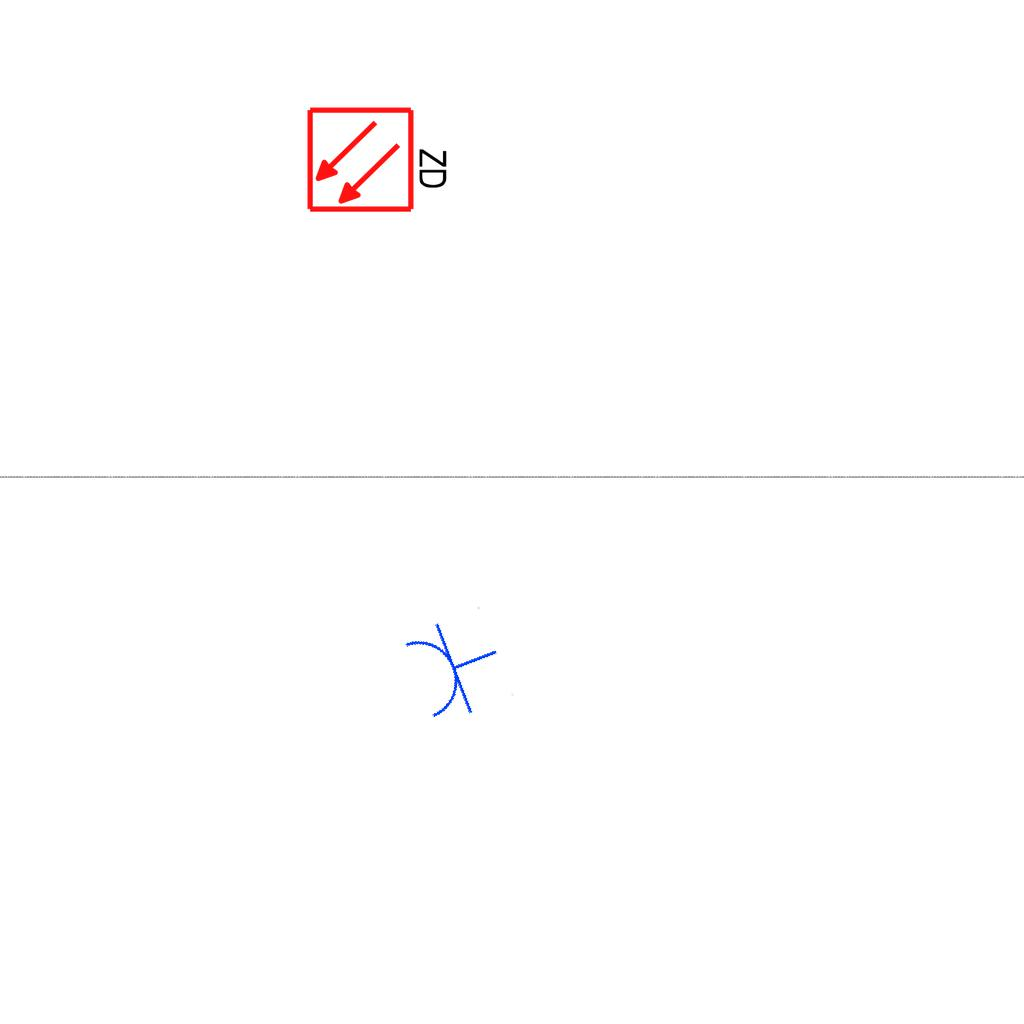Schukosteckdose_einfach: (397, 604, 515, 729)
ZD_Melder_in_Zwischendecke_mit_Revisionsoeffnung_mind_40_x_40_cm: (305, 101, 454, 215)
